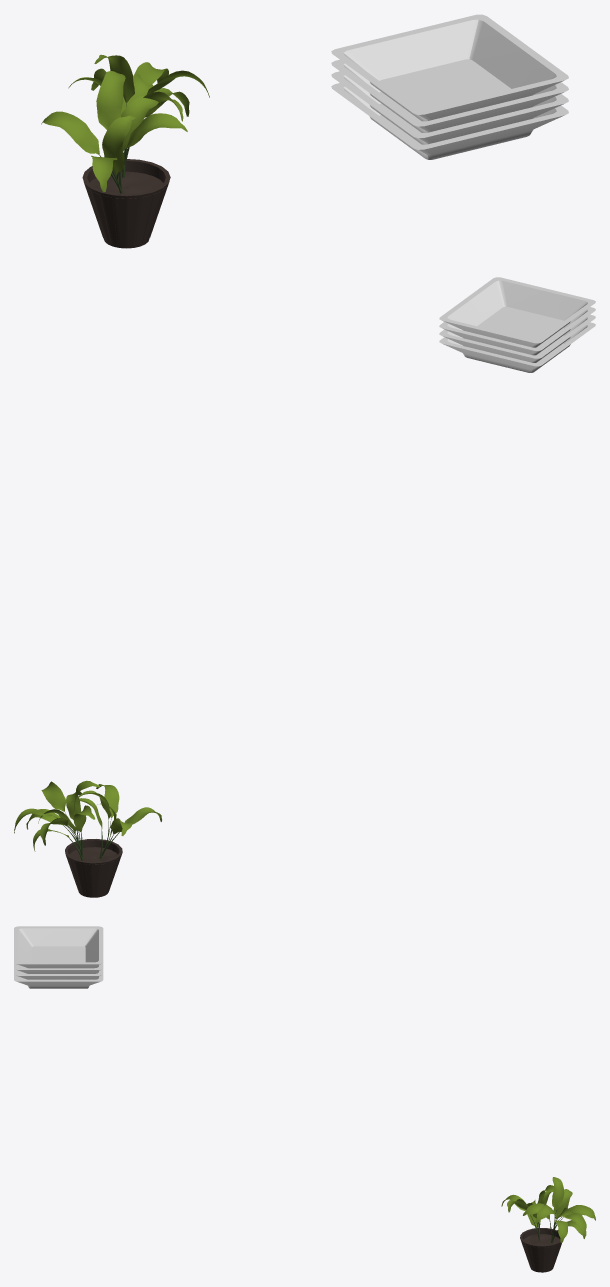
The model's file is stacked.fbx.
The picture shows the model from 3 angles, top to bottom: view 1: azimuth 30°, elevation 25°; view 2: azimuth 150°, elevation 25°; view 3: azimuth 270°, elevation 25°; orthographic projection. The views are drawn at different scales.
Visible parts, largest first — view 1: pCube27, palmLeafy3Leaf; view 2: pCube27, palmLeafy3Leaf; view 3: pCube27, palmLeafy3Leaf.
Part boxes in pixels (x1,y1,x2,y2): pCube27: [331, 14, 568, 159]; palmLeafy3Leaf: [41, 54, 209, 248]; pCube27: [439, 277, 595, 372]; palmLeafy3Leaf: [14, 780, 161, 897]; pCube27: [14, 926, 103, 988]; palmLeafy3Leaf: [501, 1177, 595, 1272].
Size of the model in its own units: 62.66 by 107 by 198.
